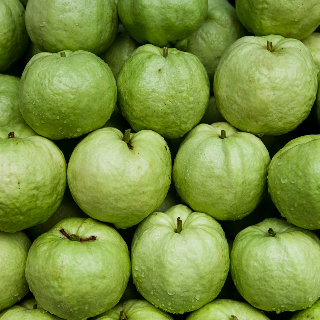oi: (25, 217, 130, 319), (67, 128, 172, 227), (214, 35, 315, 134), (135, 208, 229, 312), (174, 123, 268, 217), (21, 51, 117, 138), (119, 45, 208, 138), (232, 219, 320, 310)
